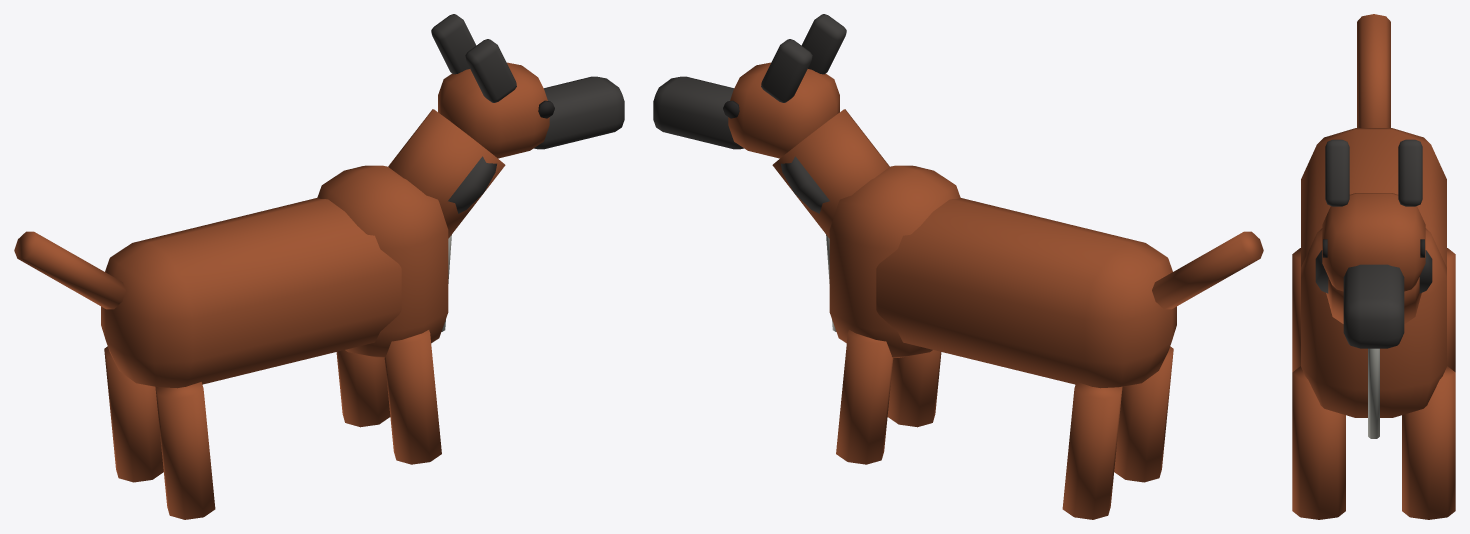
Rendered from dog.glb.
3 views of the same model, side by side, from view 1: azimuth 30°, elevation 25°; view 2: azimuth 150°, elevation 25°; view 3: azimuth 270°, elevation 25° (orthographic). The views are drawn at different scales.
Parts seen in each view (by area): view 1: body, chest, head, leg, leg.001, neck, leg.002, snout, tail, leg.003, ear, ear.001 (+1 smaller); view 2: body, chest, head, leg.002, leg.003, neck, leg, snout, tail, leg.001, ear.001, ear (+1 smaller); view 3: chest, body, head, leg.001, leg.003, snout, tail, ear, ear.001, chain, leg, leg.002 (+2 smaller).
Part boxes in pixels (x1=…): body: x1=101, y1=198, x2=401, y2=388; chest: x1=317, y1=165, x2=448, y2=357; head: x1=438, y1=62, x2=549, y2=158; leg: x1=155, y1=382, x2=215, y2=519; leg.001: x1=384, y1=330, x2=441, y2=464; neck: x1=388, y1=109, x2=505, y2=238; leg.002: x1=104, y1=346, x2=163, y2=482; snout: x1=534, y1=76, x2=624, y2=149; tail: x1=14, y1=231, x2=125, y2=309; leg.003: x1=336, y1=350, x2=390, y2=427; ear: x1=465, y1=39, x2=516, y2=102; ear.001: x1=431, y1=14, x2=476, y2=74; body: x1=876, y1=198, x2=1176, y2=388; chest: x1=829, y1=165, x2=960, y2=357; head: x1=728, y1=62, x2=839, y2=158; leg.002: x1=1062, y1=382, x2=1122, y2=519; leg.003: x1=836, y1=330, x2=893, y2=464; neck: x1=772, y1=109, x2=889, y2=238; leg: x1=1114, y1=346, x2=1173, y2=482; snout: x1=653, y1=76, x2=743, y2=149; tail: x1=1152, y1=231, x2=1263, y2=309; leg.001: x1=887, y1=350, x2=941, y2=427; ear.001: x1=761, y1=39, x2=812, y2=102; ear: x1=801, y1=14, x2=846, y2=74; chest: x1=1301, y1=228, x2=1446, y2=417; body: x1=1301, y1=128, x2=1446, y2=267; head: x1=1322, y1=193, x2=1425, y2=291; leg.001: x1=1292, y1=366, x2=1345, y2=519; leg.003: x1=1402, y1=366, x2=1455, y2=519; snout: x1=1343, y1=264, x2=1404, y2=348; tail: x1=1357, y1=14, x2=1390, y2=127; ear: x1=1325, y1=139, x2=1349, y2=206; ear.001: x1=1398, y1=139, x2=1422, y2=206; chain: x1=1368, y1=348, x2=1379, y2=438; leg: x1=1292, y1=248, x2=1300, y2=372; leg.002: x1=1447, y1=248, x2=1455, y2=372.
Bounding box in the file's own units: 0.6086 × 0.3761 × 0.134.
